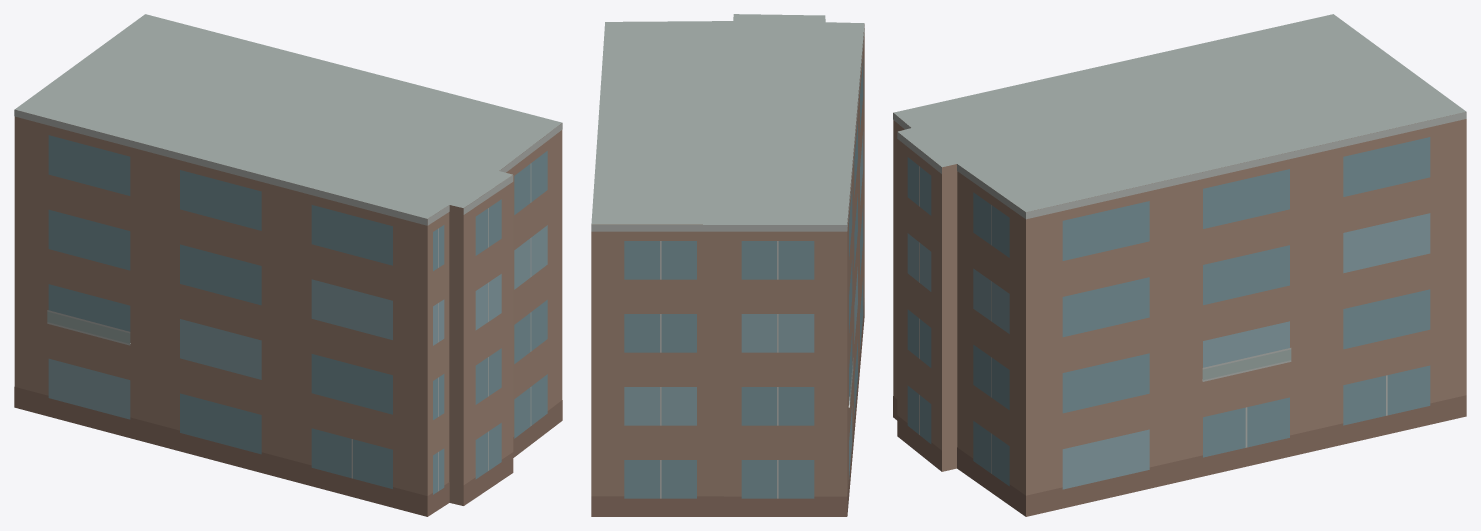
File: survey-upis-32904458.glb
The picture shows the model from 3 angles, left to right: view 1: azimuth 30°, elevation 25°; view 2: azimuth 150°, elevation 25°; view 3: azimuth 270°, elevation 25°; orthographic projection. The views are drawn at different scales.
Parts seen in each view (by area): view 1: survey-upis-32904458.tmp; view 2: survey-upis-32904458.tmp; view 3: survey-upis-32904458.tmp.
Boxes of the visible parts, x1,y1,x2,y2 form: survey-upis-32904458.tmp: [14, 14, 562, 516]; survey-upis-32904458.tmp: [591, 14, 864, 516]; survey-upis-32904458.tmp: [893, 14, 1466, 516].
Bounding box in the file's own units: 14.67 × 10.5 × 17.92.
